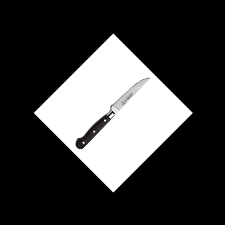k1: (105, 76, 152, 120)
